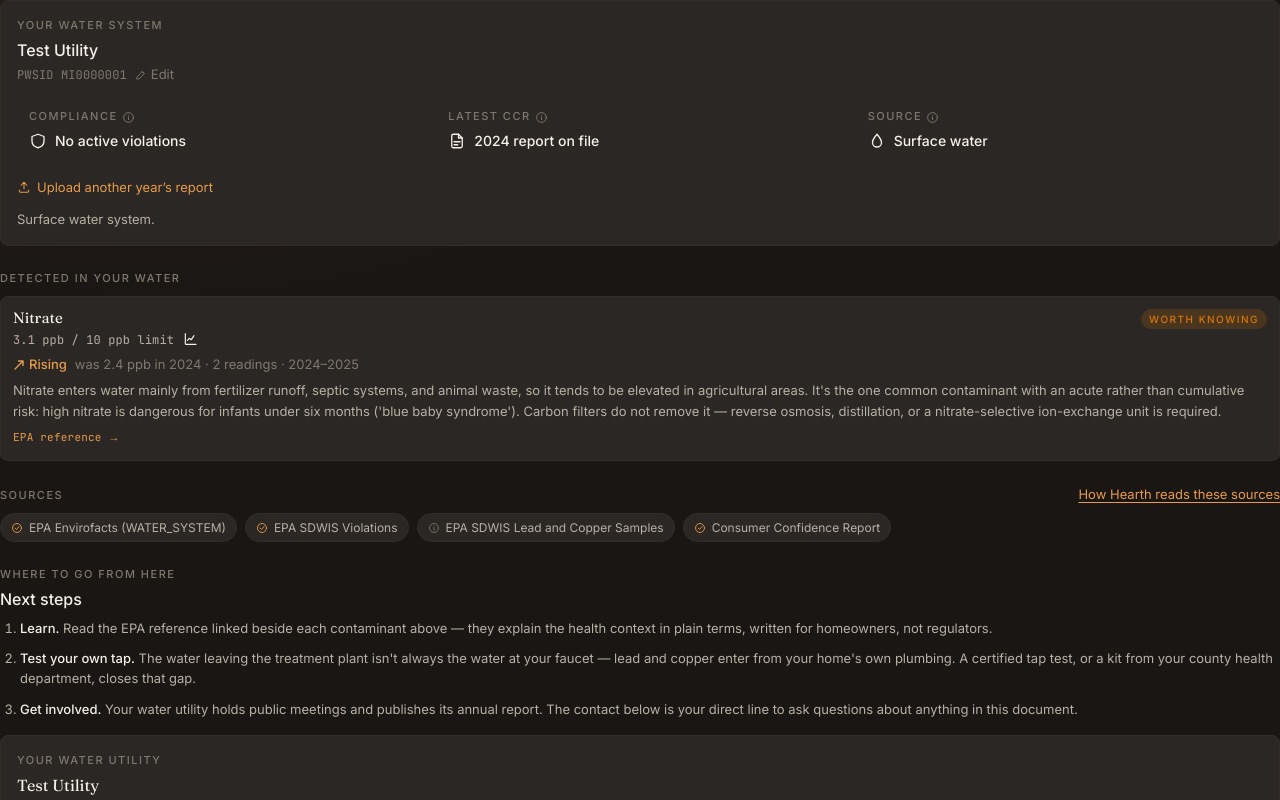
it: WqaOverviewBody — year-over-year trends (issue #289) › opens a trend chart popover carrying the utility + PWSID for screenshots (issue #293)
What coordinates should you click on to do the following:
click the button named "Show the Nitrate trend chart for every year of data we have"
I would click on:
 (190, 339)
Its box is [180,329,200,349].
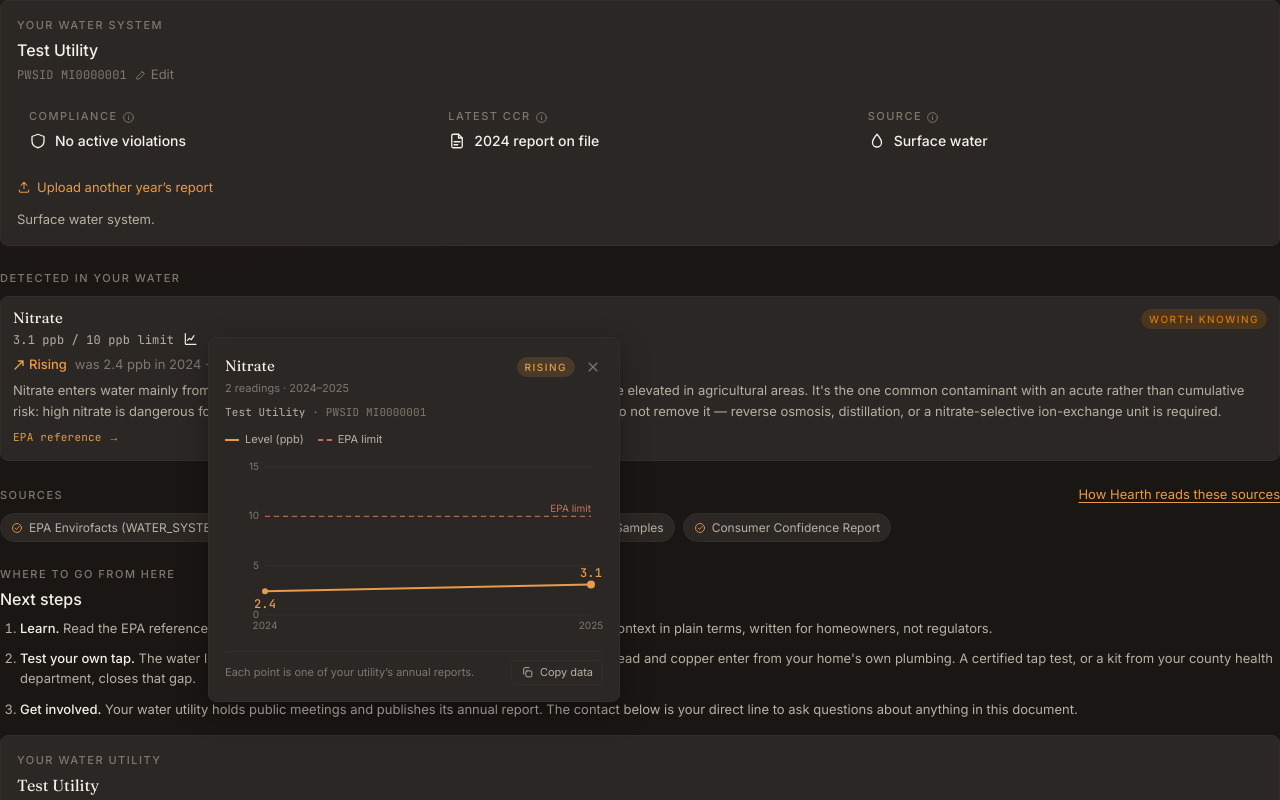
Now the dialog is shown, box [208,337,620,702]
Now the dialog shows "PWSID MI0000001", box [326,404,426,418]
Now the dialog shows "Test Utility", box [225,404,306,418]
